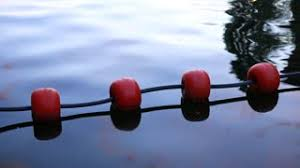buoy: (107, 77, 143, 112), (245, 62, 279, 95), (180, 70, 212, 102), (31, 87, 61, 120)
